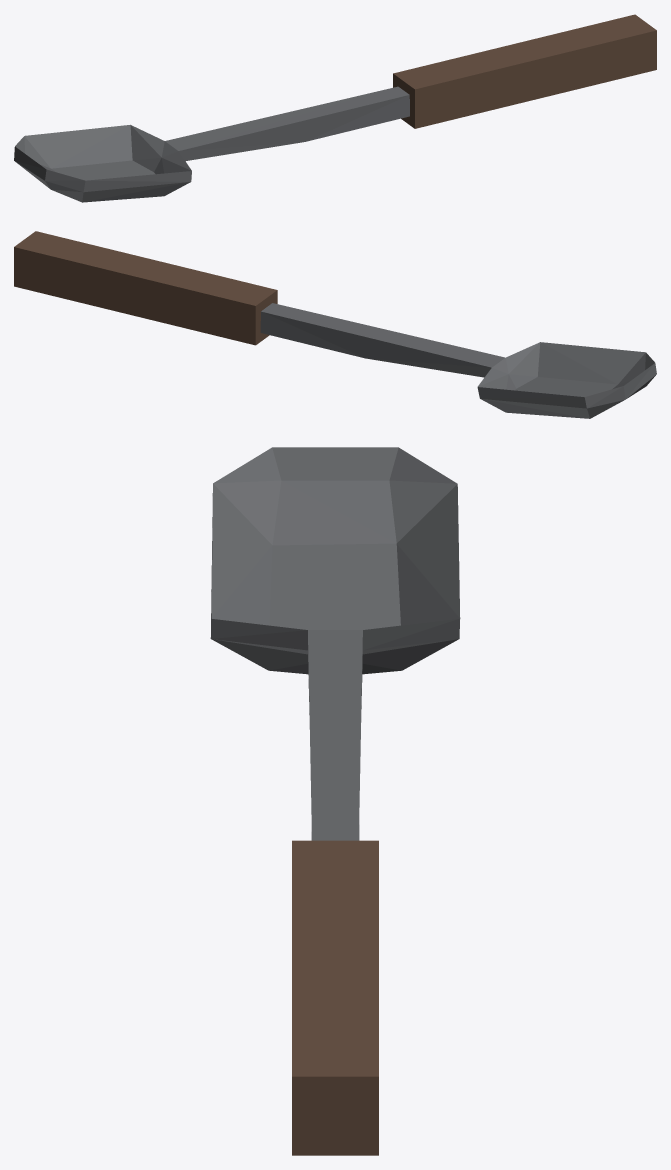
File: spoon.fbx
The picture shows the model from 3 angles, top to bottom: view 1: azimuth 30°, elevation 25°; view 2: azimuth 150°, elevation 25°; view 3: azimuth 270°, elevation 25°; orthographic projection. The views are drawn at different scales.
Visible parts, largest first — view 1: spoon; view 2: spoon; view 3: spoon.
Boxes of the visible parts, left/top/right/bottom form: spoon: left=14, top=14, right=656, bottom=202; spoon: left=14, top=231, right=656, bottom=418; spoon: left=210, top=447, right=460, bottom=1155.
Size of the model in its own units: 46.31 by 3.98 by 8.11.
Materials: 1 (1 with a texture image).
